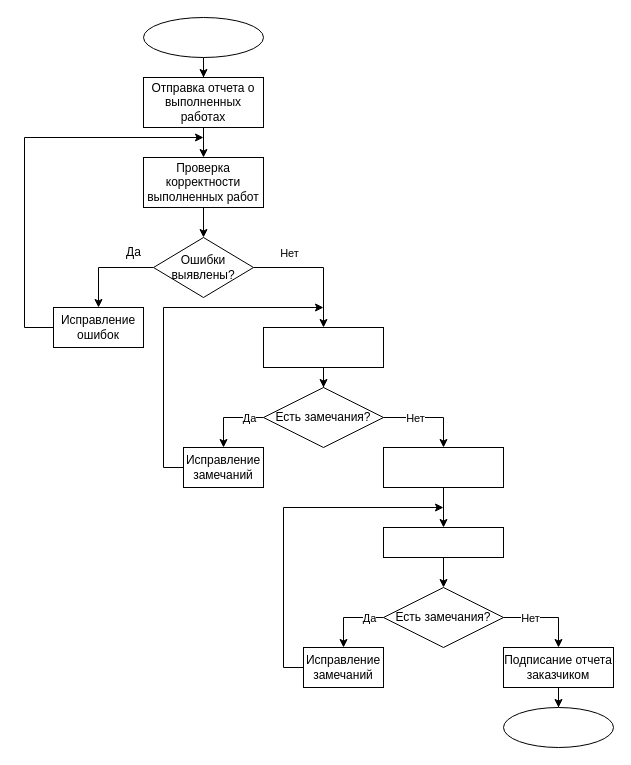
The diagram is 631 pixels wide and 765 high, and some of its shapes have lost their labels. The centre of each missing label's shape, as x and y in pixels:
Конец: the point at 558,727
Начало: the point at 203,37
Подписание отчета директором: the point at 443,467
Рассмотрение отчета заказчиком: the point at 323,347
Согласование с заказчиком: the point at 443,542
